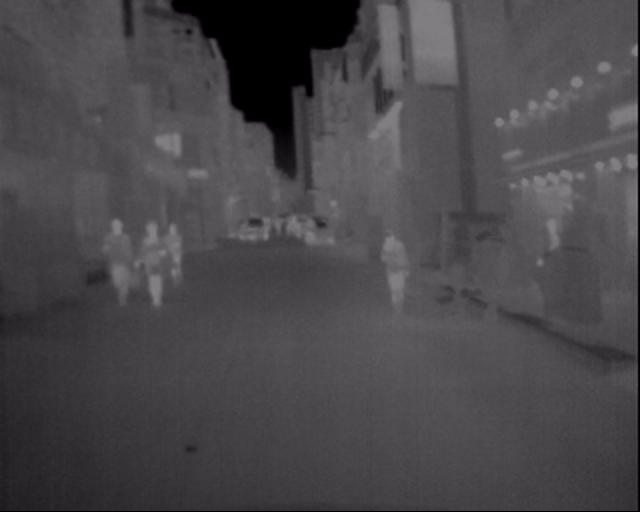person: (131, 211, 180, 331), (91, 207, 136, 324), (373, 224, 413, 320)
